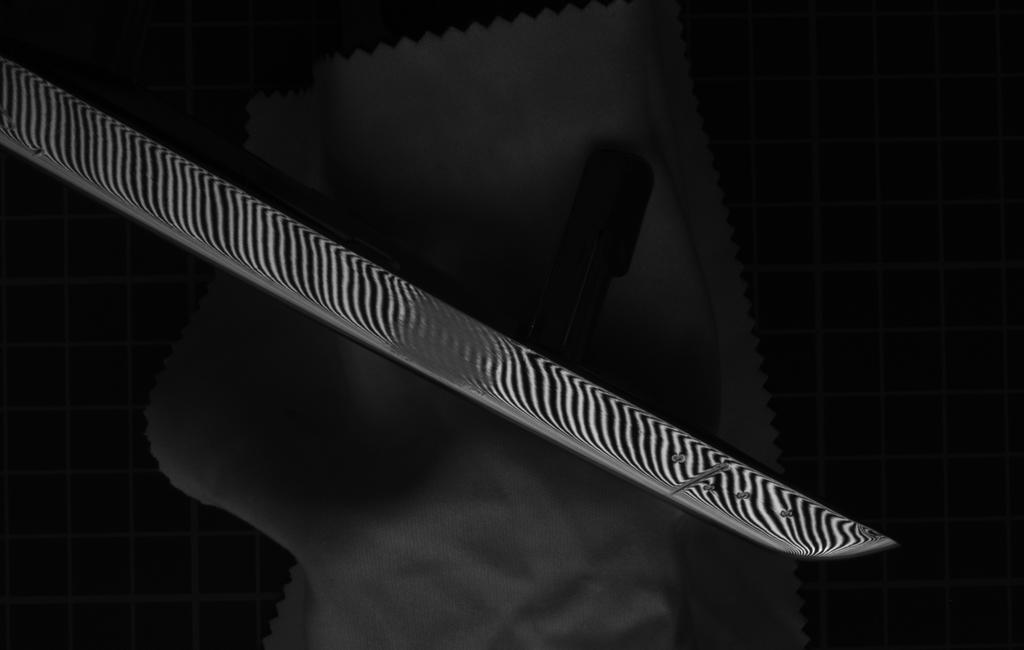Pierced: (667, 446, 689, 467), (775, 505, 799, 522), (732, 487, 756, 502), (701, 481, 719, 494)
Pitting: (379, 275, 522, 402)
Scratch: (665, 458, 736, 501)
